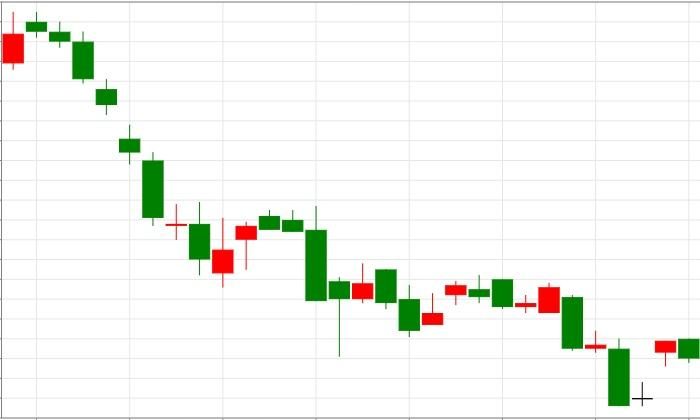inverse_hammer_rise: (26, 13, 234, 288)
